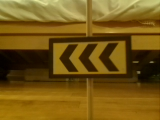left: (50, 39, 131, 77)
